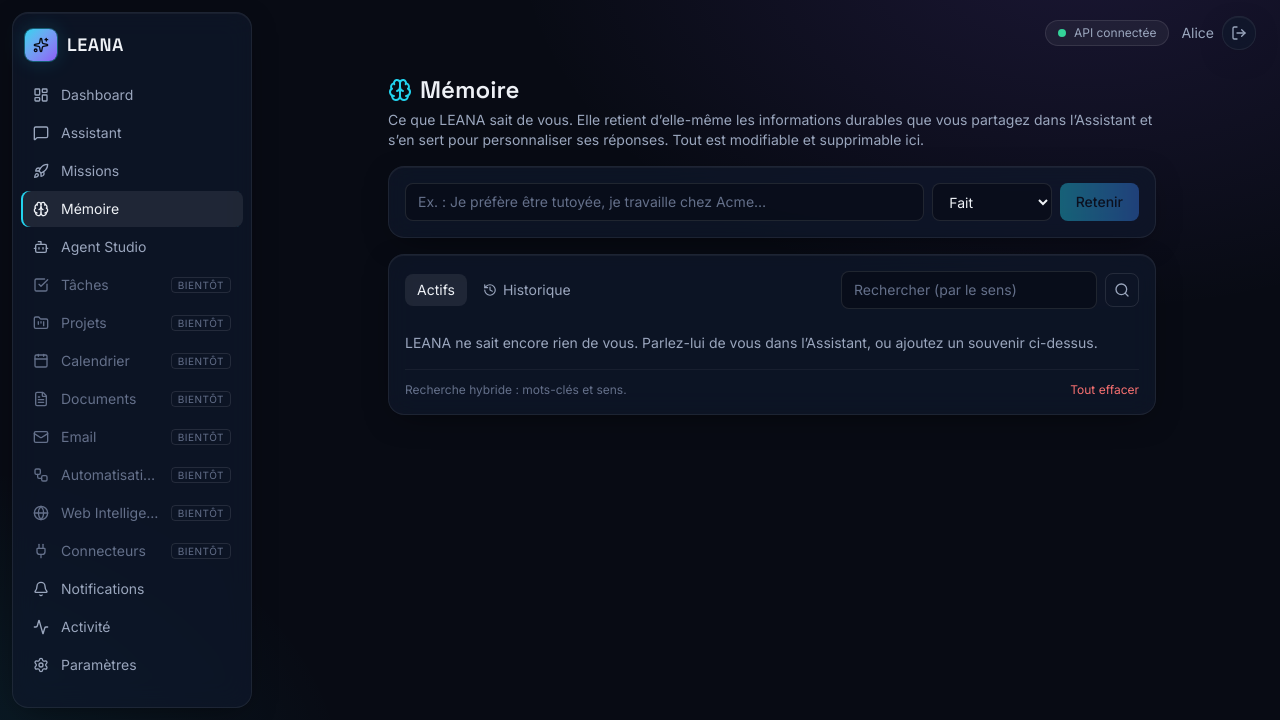
Test case: memory page › teaches a new memory and reports a duplicate
The image size is (1280, 720).
Expected: the text "LEANA ne sait encore rien de vous" is shown, [405, 334, 1098, 351]
Type "  Parle italien " into the field named "Ce que LEANA doit retenir" at (665, 202), box [405, 183, 924, 221]
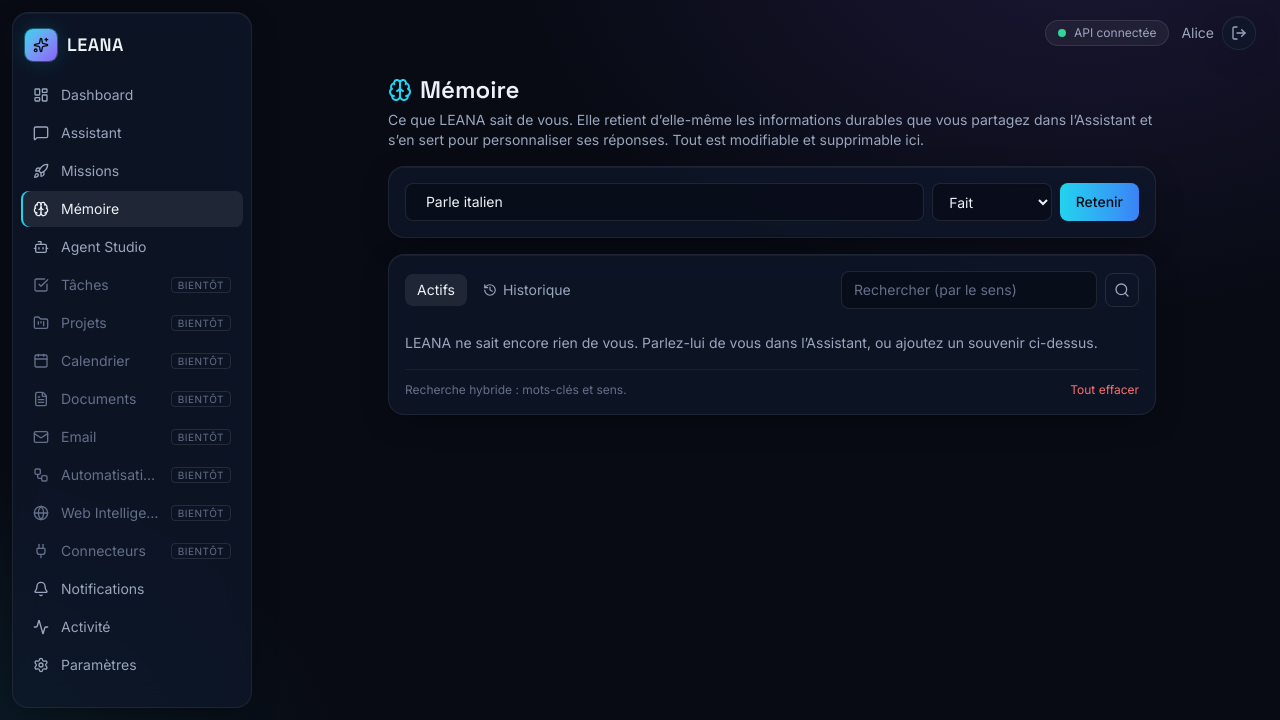
Select "Préférence" in the dropdown named "Type" at (992, 202), box [932, 183, 1052, 221]
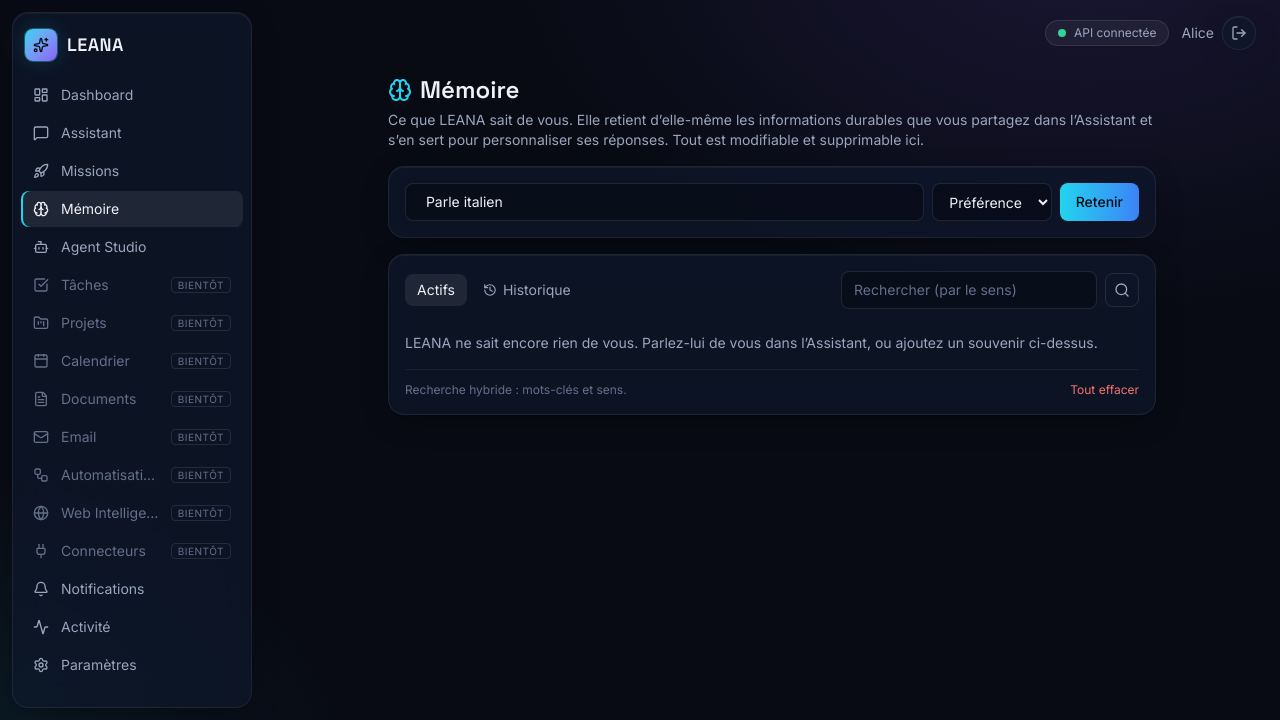
Click the button "Retenir" at (1099, 202), box [1060, 183, 1139, 221]
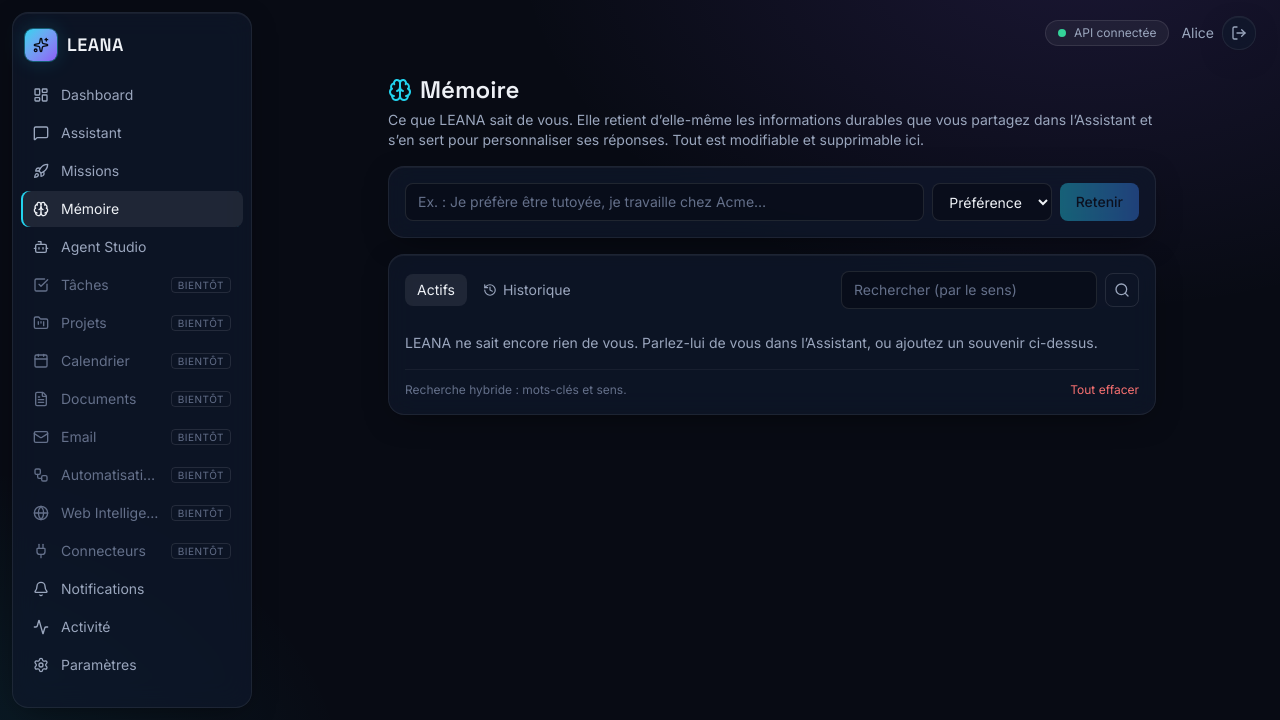
Now the field named "Ce que LEANA doit retenir" is empty
Type "Parle italien" into the field named "Ce que LEANA doit retenir" at (665, 202), box [405, 183, 924, 221]
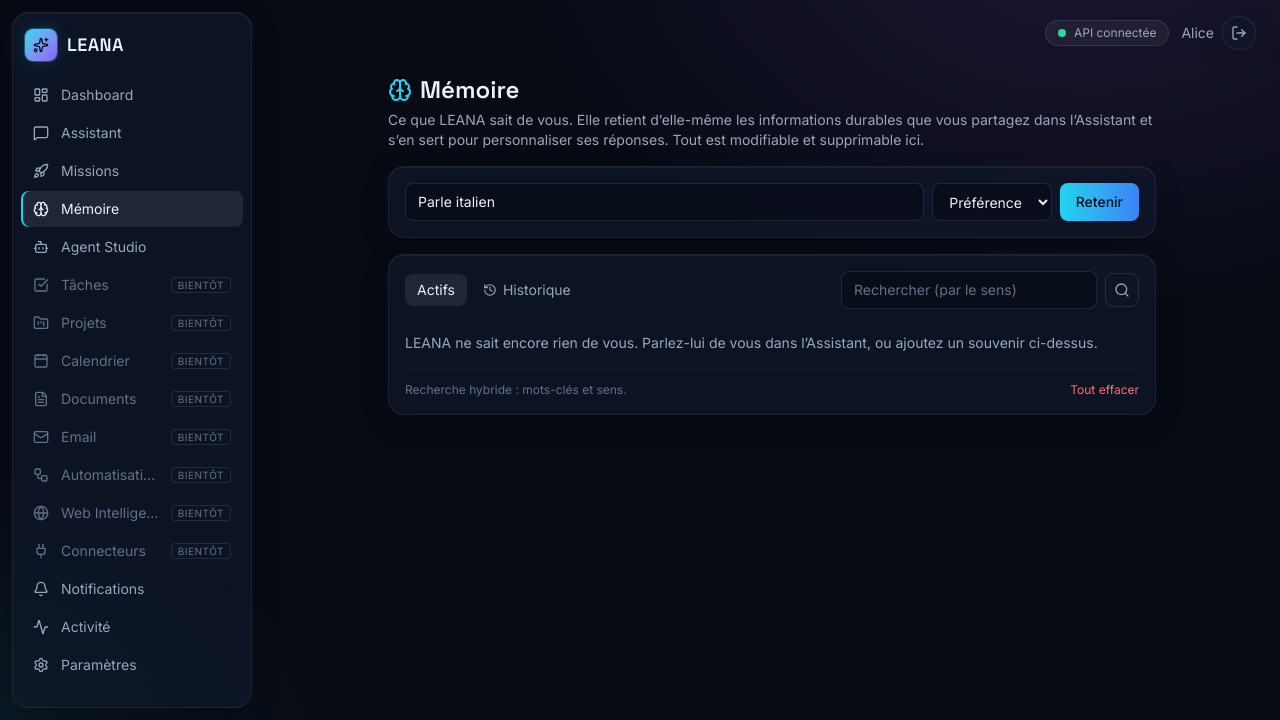
Click the button "Retenir" at (1099, 202), box [1060, 183, 1139, 221]
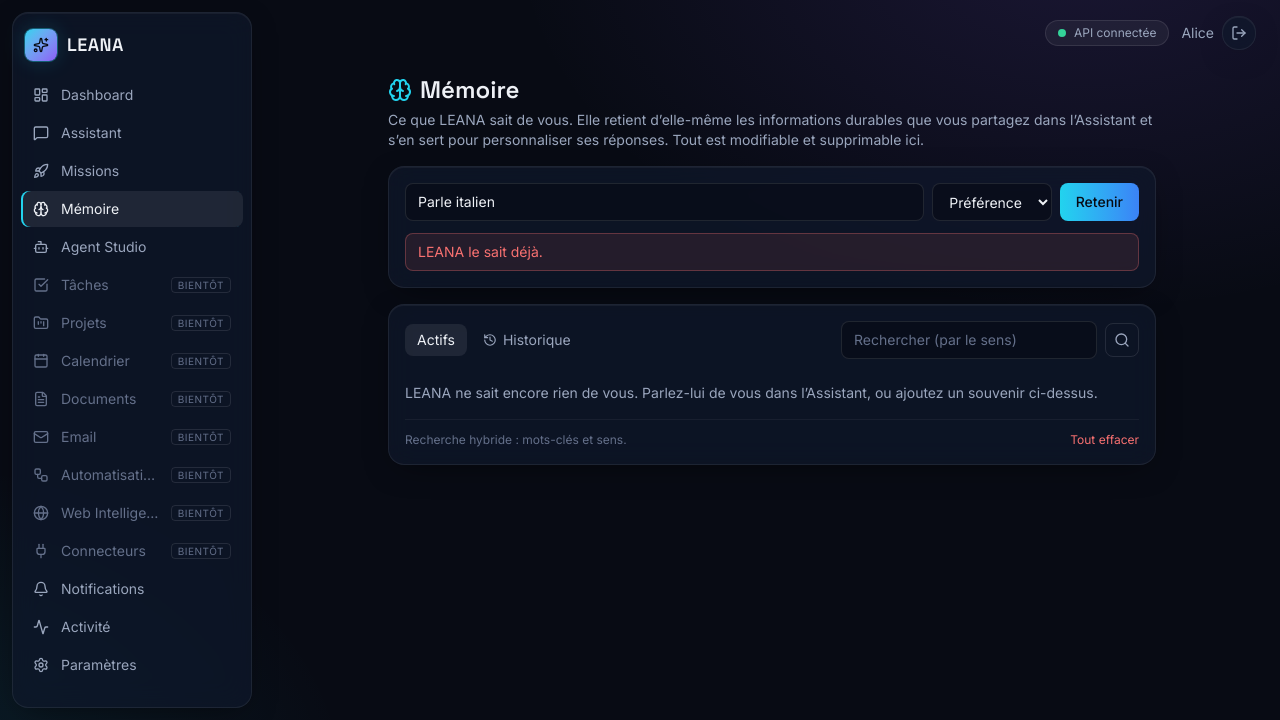
Now the message "LEANA le sait déjà." is shown, box [405, 233, 1139, 271]
